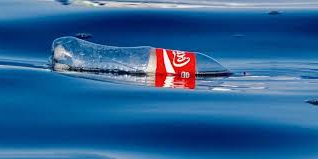plastic water bottle: (48, 35, 251, 84)
